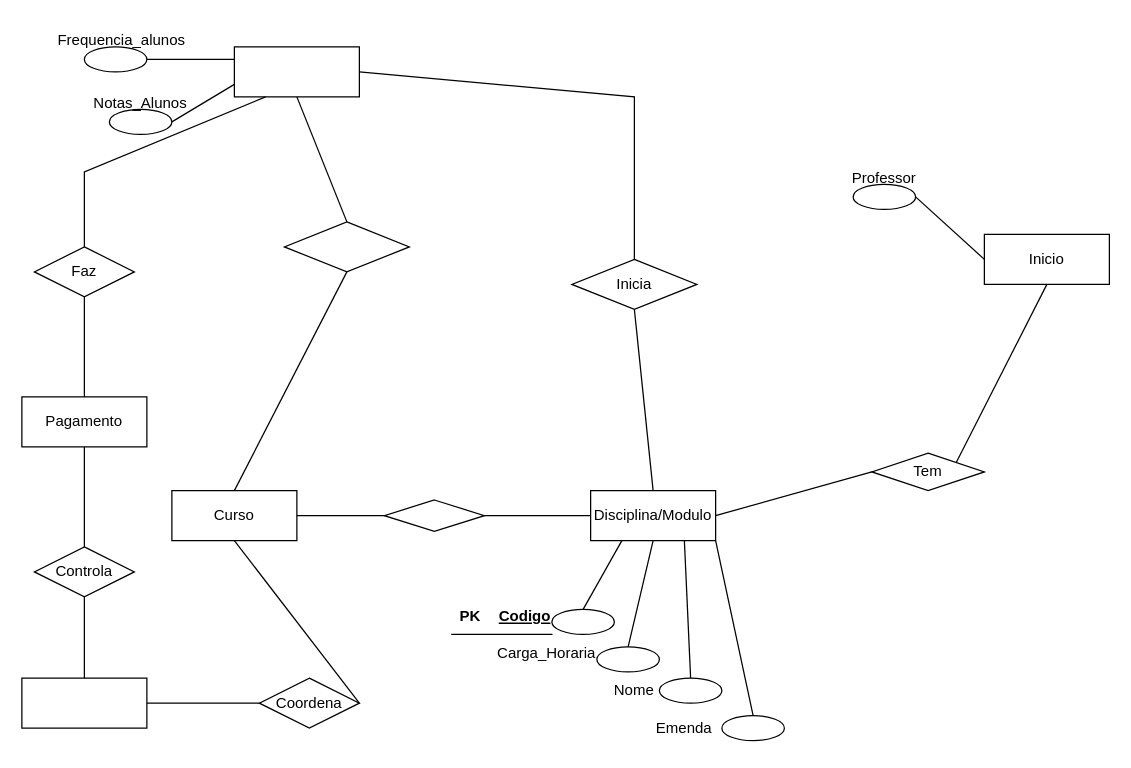
The diagram is 1131 pixels wide and 768 high, and some of its shapes have lost their labels. The shapes that lost their labels are listed below. From the top down, each one's centre as x and y in pixels, then its label:
the point at 296,71: Aluno
the point at 346,246: Matricula-se
the point at 433,515: Possui
the point at 84,702: Coordenador
